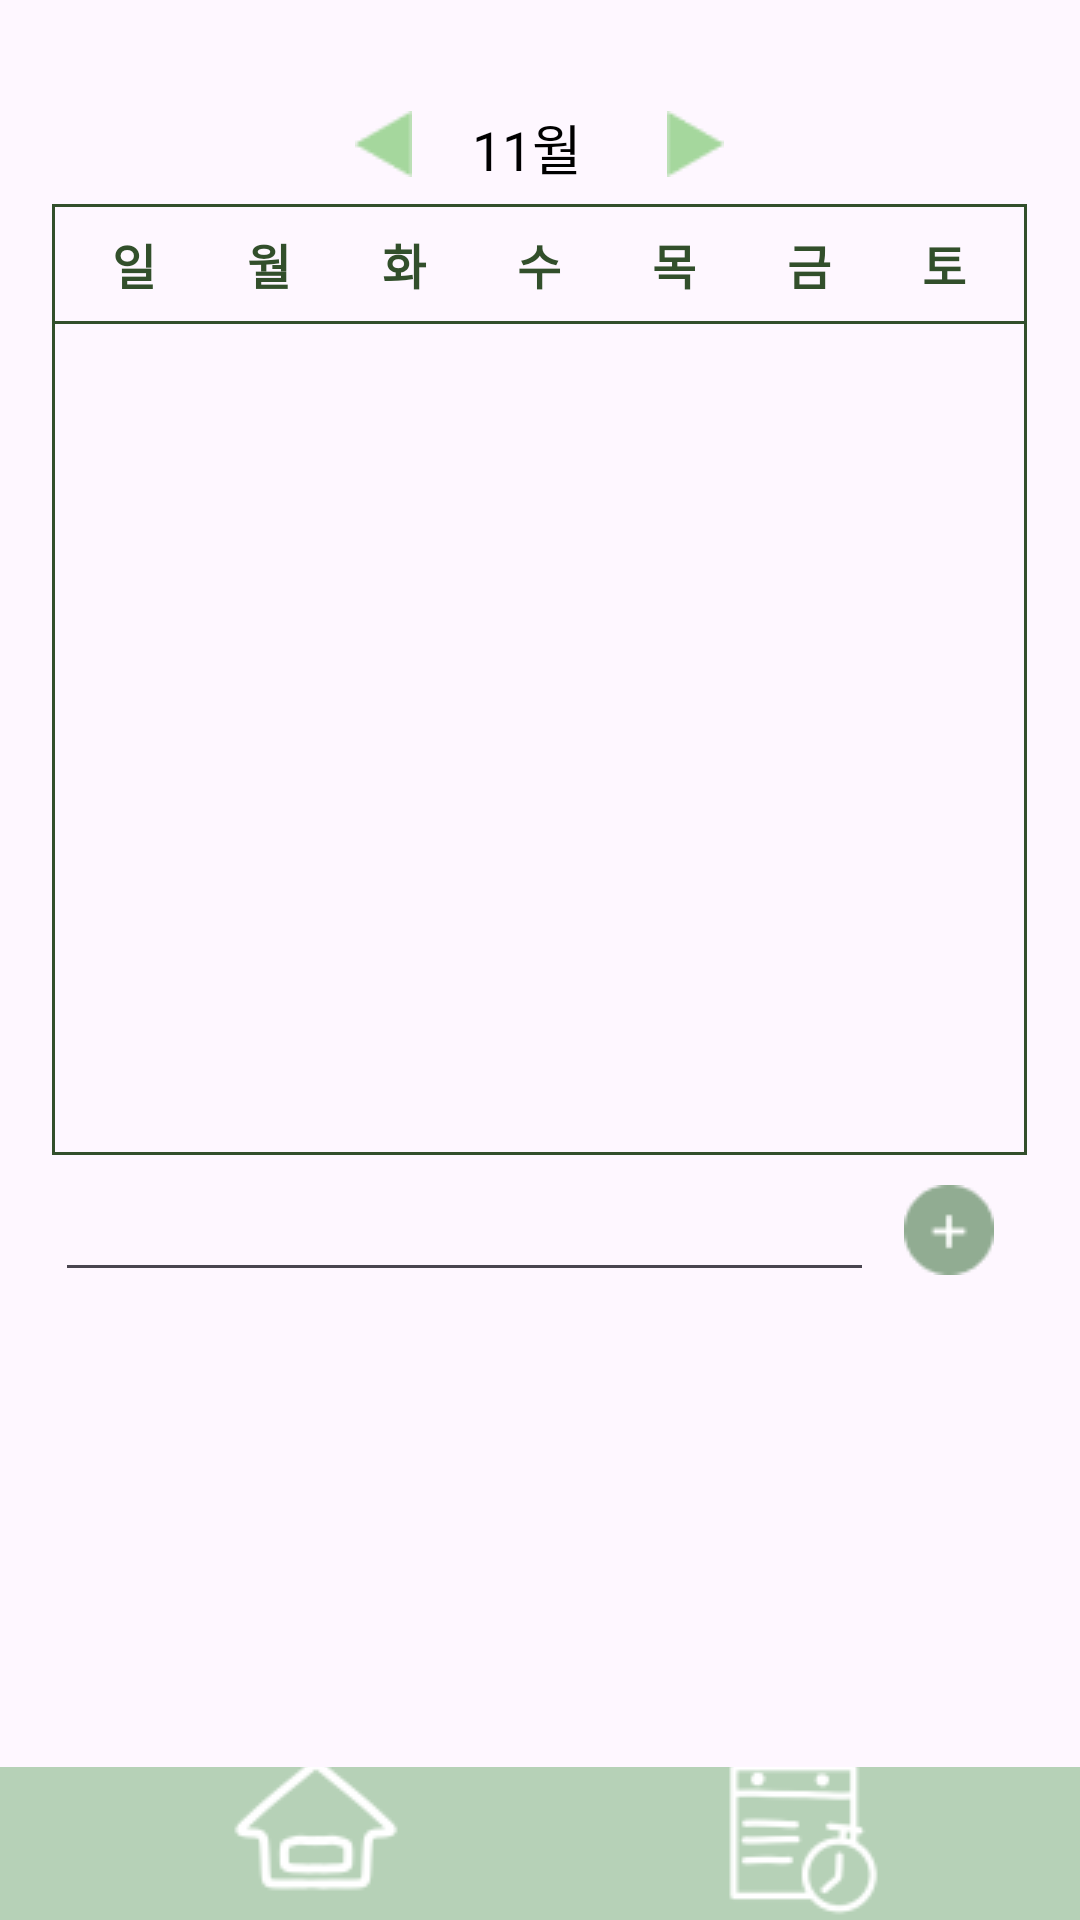

Screen size 1080 × 1920. Icon name, then its box in pixels as (x1, y1, x2, y2):
calender left: (355, 111, 412, 177)
calender right: (667, 111, 724, 177)
plus: (904, 1185, 994, 1275)
